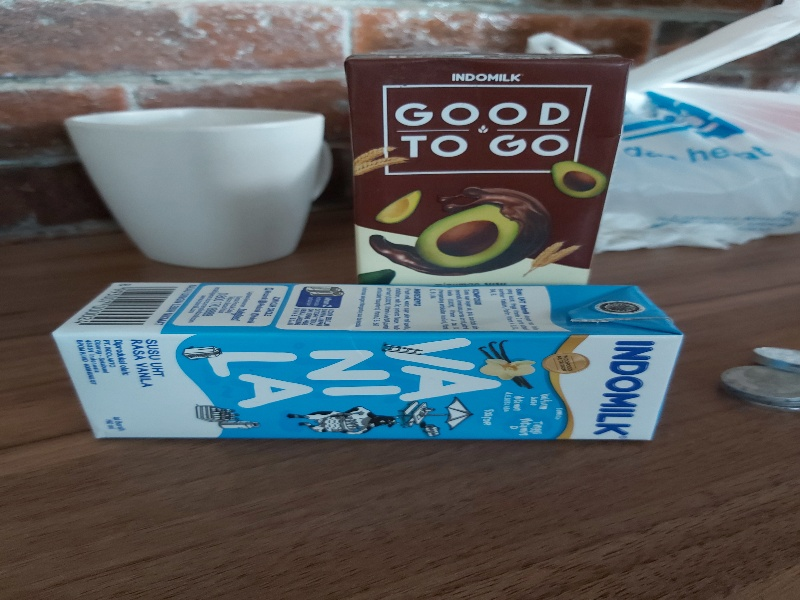cokelat: (345, 50, 630, 283)
vanilla: (51, 284, 687, 441)
